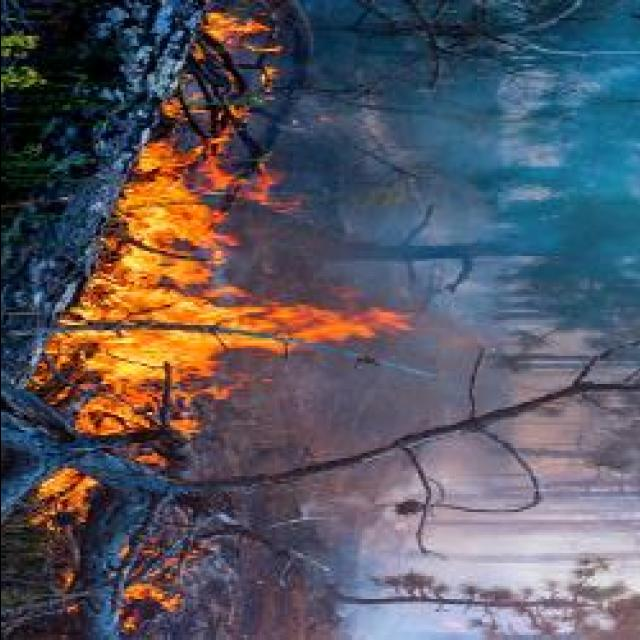fire: (73, 294, 405, 369), (113, 147, 237, 303)
smoke: (236, 363, 498, 457)
